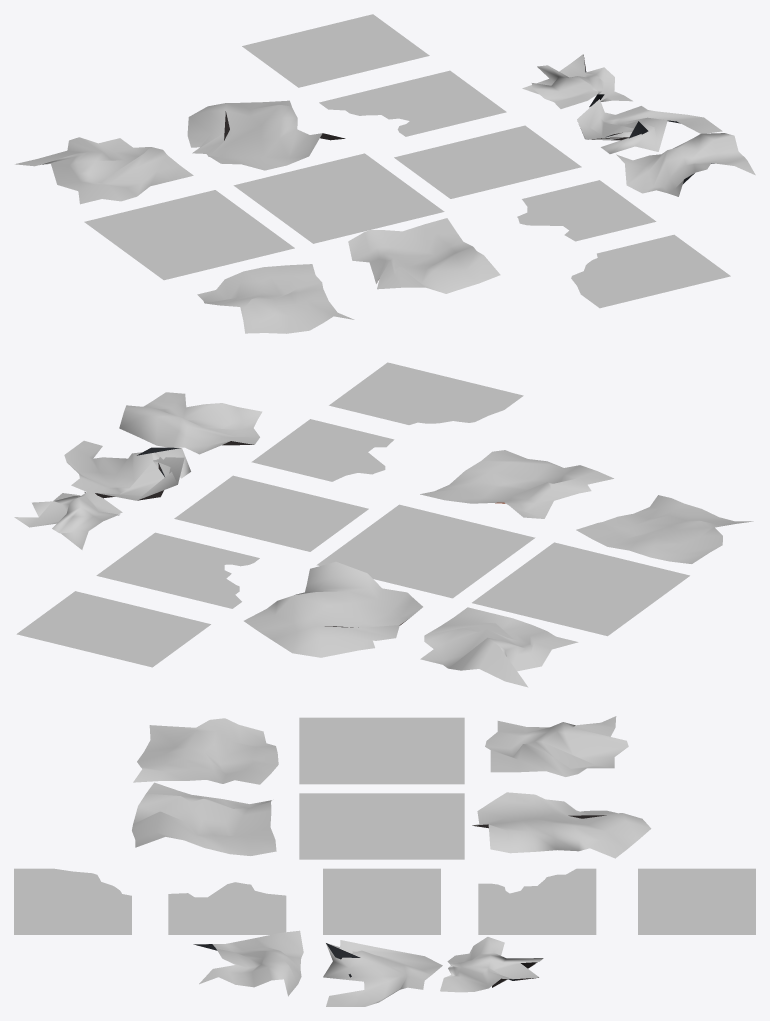
The picture shows the model from 3 angles, top to bottom: view 1: azimuth 30°, elevation 25°; view 2: azimuth 150°, elevation 25°; view 3: azimuth 270°, elevation 25°; orthographic projection. The views are drawn at different scales.
Parts seen in each view (by area): view 1: Napkin_2, Napkin_1, End_is_Nigh_Poster, Wrapping_Paper_3, Napkin_1_Crumpled_1, Napkin_1_Crumpled_2, End_is_Nigh_Poster_Ripped_3, Napkin_2_Crumpled_2, Napkin_2_Crumpled_1, End_is_Nigh_Poster_Ripped_1, End_is_Nigh_Poster_Ripped_2, End_is_Nigh_Crumpled_3 (+2 smaller); view 2: Napkin_2, Napkin_1, Napkin_1_Crumpled_2, End_is_Nigh_Poster, Wrapping_Paper_3, End_is_Nigh_Poster_Ripped_3, Napkin_2_Crumpled_1, End_is_Nigh_Poster_Ripped_1, Napkin_1_Crumpled_1, Napkin_2_Crumpled_2, End_is_Nigh_Crumpled_3, End_is_Nigh_Poster_Ripped_2 (+2 smaller); view 3: Napkin_2, Napkin_1, End_is_Nigh_Poster, Wrapping_Paper_3, Napkin_1_Crumpled_2, Napkin_2_Crumpled_2, Napkin_1_Crumpled_1, End_is_Nigh_Poster_Ripped_3, End_is_Nigh_Poster_Ripped_1, Napkin_2_Crumpled_1, End_is_Nigh_Poster_Ripped_2, End_is_Nigh_Crumpled_2 (+2 smaller).
Boxes of the visible parts, x1,y1,x2,y2 form: Napkin_2: [84, 190, 294, 280]; Napkin_1: [233, 153, 444, 243]; End_is_Nigh_Poster: [394, 125, 581, 198]; Wrapping_Paper_3: [242, 14, 429, 87]; Napkin_1_Crumpled_1: [348, 218, 500, 293]; Napkin_1_Crumpled_2: [187, 100, 322, 170]; End_is_Nigh_Poster_Ripped_3: [571, 234, 730, 308]; Napkin_2_Crumpled_2: [197, 264, 354, 333]; Napkin_2_Crumpled_1: [15, 137, 193, 204]; End_is_Nigh_Poster_Ripped_1: [319, 70, 506, 136]; End_is_Nigh_Poster_Ripped_2: [517, 180, 656, 241]; End_is_Nigh_Crumpled_3: [616, 133, 755, 196]; Napkin_2: [472, 542, 689, 636]; Napkin_1: [316, 504, 535, 598]; Napkin_1_Crumpled_2: [244, 562, 422, 657]; End_is_Nigh_Poster: [174, 475, 368, 551]; Wrapping_Paper_3: [16, 591, 210, 667]; End_is_Nigh_Poster_Ripped_3: [329, 362, 523, 424]; Napkin_2_Crumpled_1: [420, 607, 578, 687]; End_is_Nigh_Poster_Ripped_1: [96, 532, 259, 608]; Napkin_1_Crumpled_1: [420, 450, 613, 518]; Napkin_2_Crumpled_2: [576, 495, 753, 563]; End_is_Nigh_Crumpled_3: [119, 392, 262, 454]; End_is_Nigh_Poster_Ripped_2: [251, 419, 394, 481]; Napkin_2: [299, 717, 464, 784]; Napkin_1: [299, 793, 464, 859]; End_is_Nigh_Poster: [323, 868, 440, 934]; Wrapping_Paper_3: [638, 868, 755, 934]; Napkin_1_Crumpled_2: [472, 792, 651, 858]; Napkin_2_Crumpled_2: [133, 718, 278, 784]; Napkin_1_Crumpled_1: [132, 782, 276, 855]; End_is_Nigh_Poster_Ripped_3: [14, 868, 131, 934]; End_is_Nigh_Poster_Ripped_1: [478, 868, 596, 934]; Napkin_2_Crumpled_1: [485, 716, 628, 776]; End_is_Nigh_Poster_Ripped_2: [168, 882, 286, 934]; End_is_Nigh_Crumpled_2: [323, 940, 442, 1006].
Bounding box in the file's own units: 0.8705 × 0.0509 × 0.9438.
